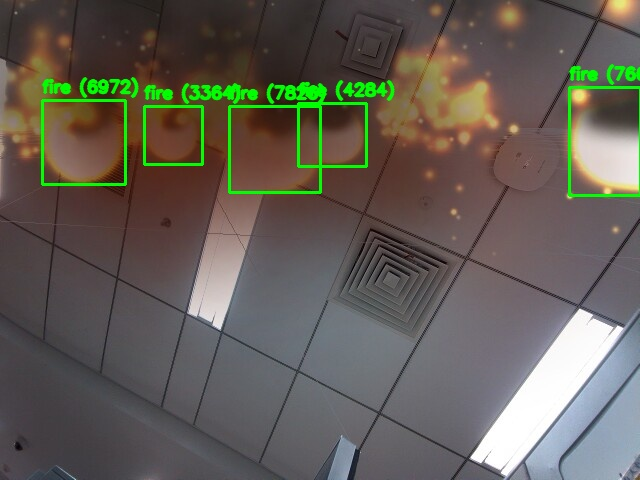fire: (229, 106, 320, 192), (569, 87, 640, 195), (42, 100, 125, 184), (298, 103, 366, 166), (144, 106, 202, 164)
